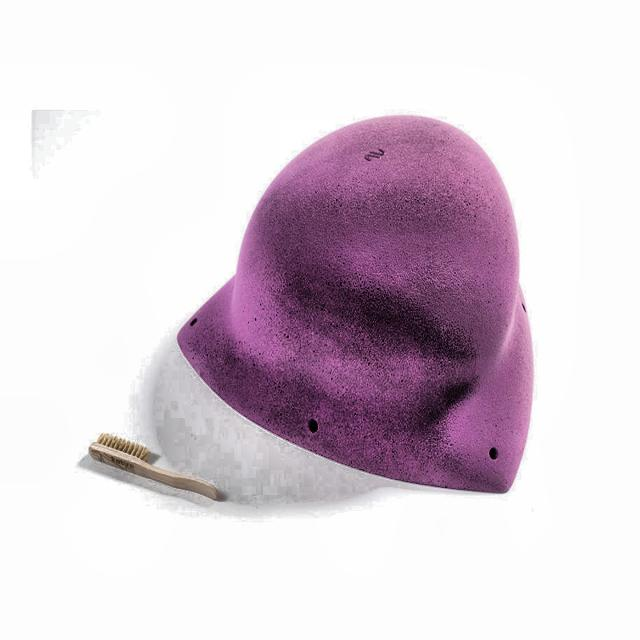Hold: (175, 115, 530, 498)
